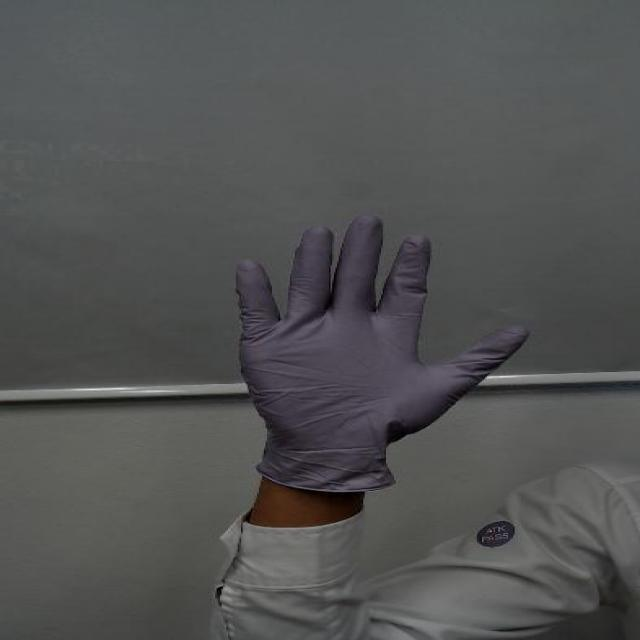with_gloves: (197, 200, 559, 424)
